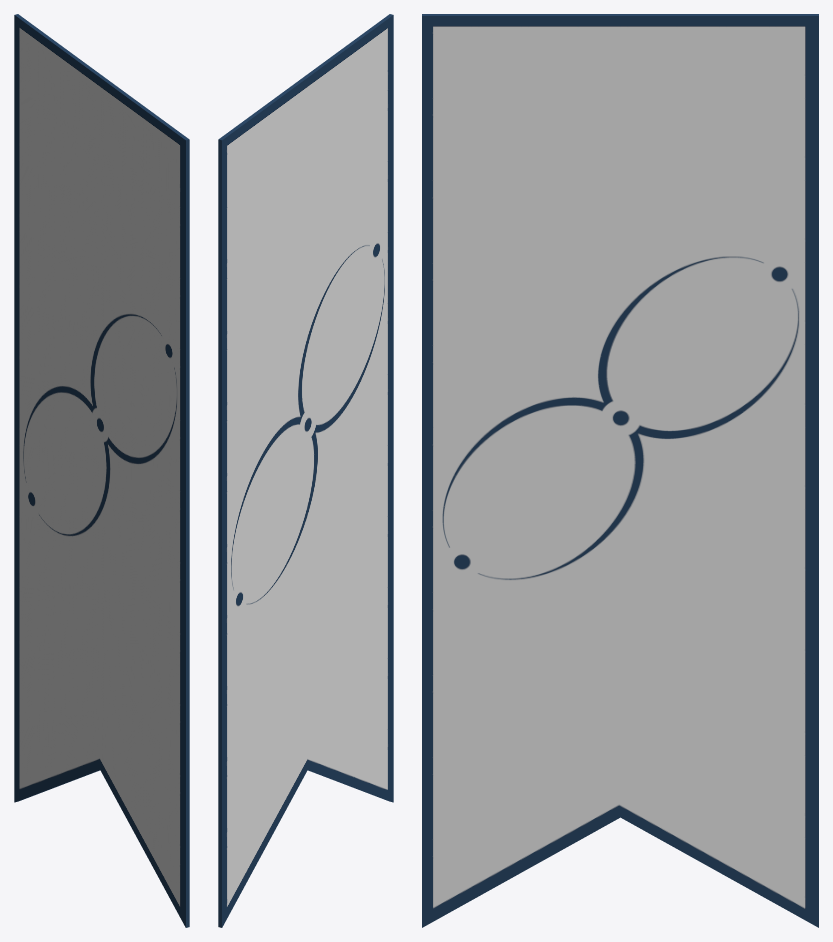
The model's file is banner-nextgen.fbx.
3 renders of one model, left to right at view 1: azimuth 30°, elevation 25°; view 2: azimuth 150°, elevation 25°; view 3: azimuth 270°, elevation 25°, orthographic. The views are drawn at different scales.
Parts seen in each view (by area): view 1: pPlane7; view 2: pPlane7; view 3: pPlane7.
Part boxes in pixels (box(x1,y1,x2,y2)): pPlane7: box(14, 14, 189, 927); pPlane7: box(218, 14, 393, 927); pPlane7: box(422, 14, 818, 927).
Bounding box in the file's own units: 0.1 × 20.55 × 8.1.
